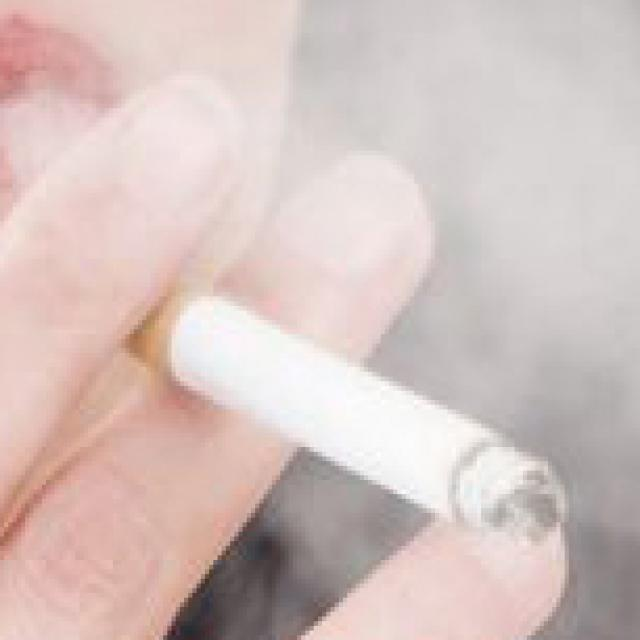smoking: (117, 278, 565, 544)
